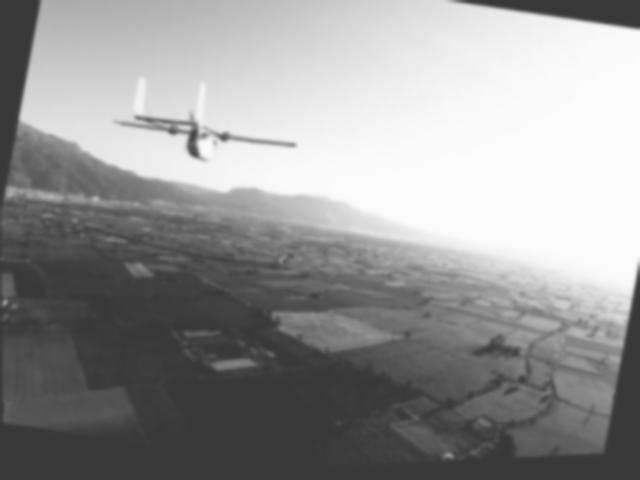hedef: (95, 59, 309, 212)
